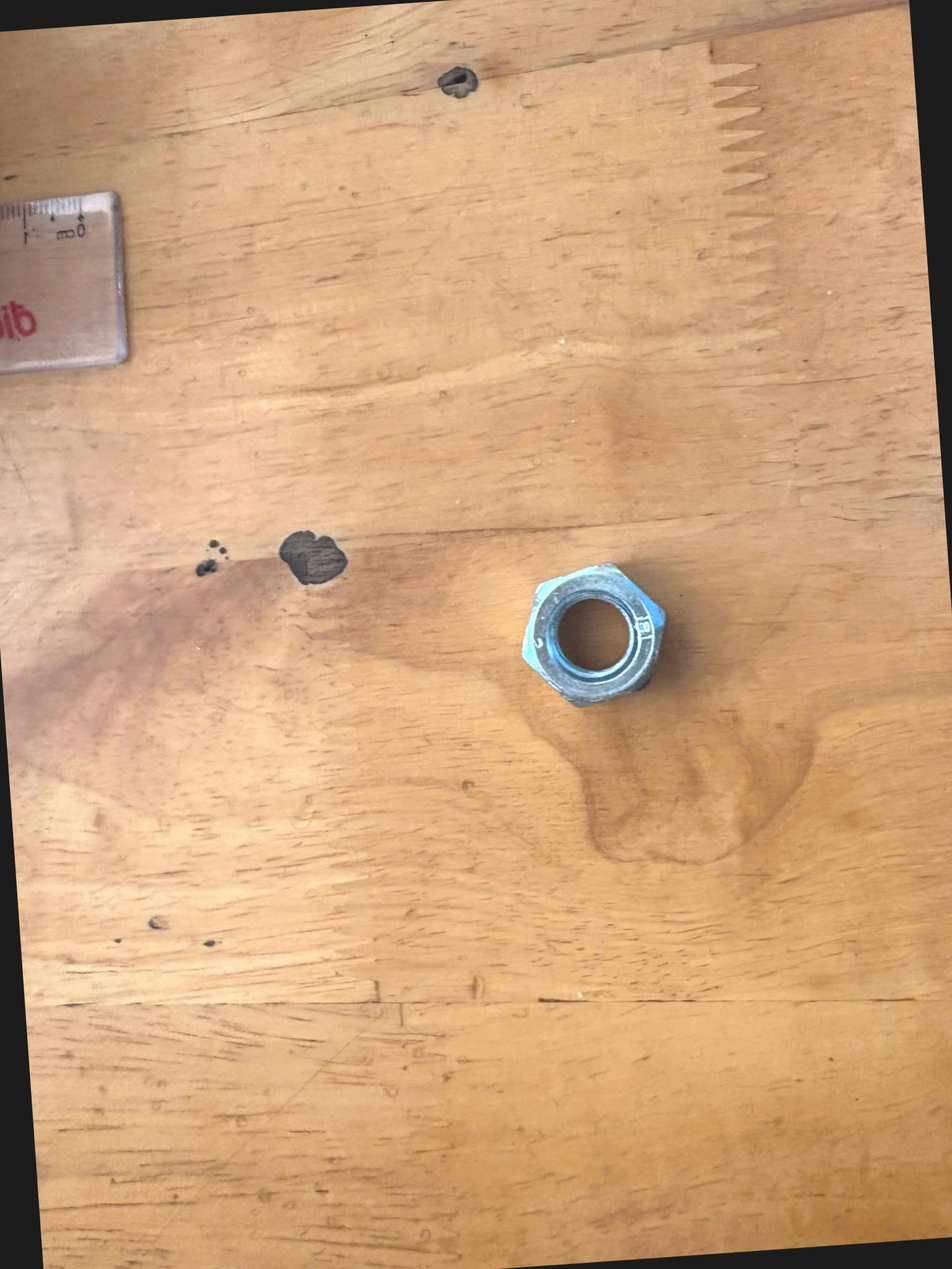nut: (486, 542, 683, 758)
